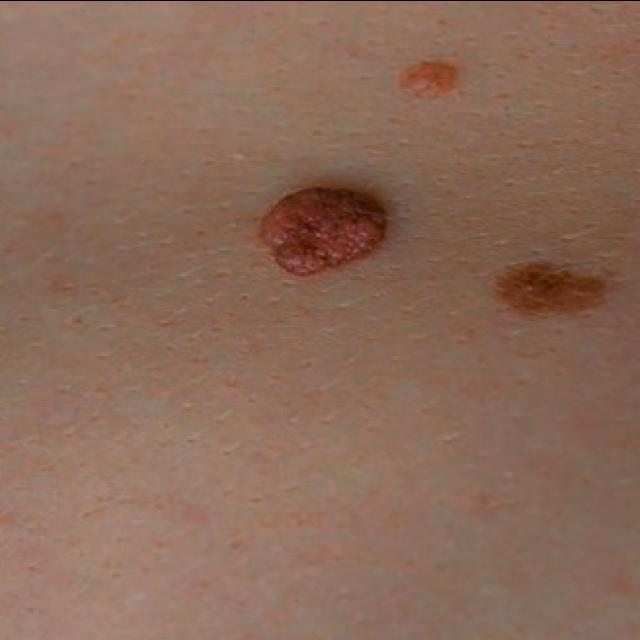wart: (256, 172, 398, 282)
